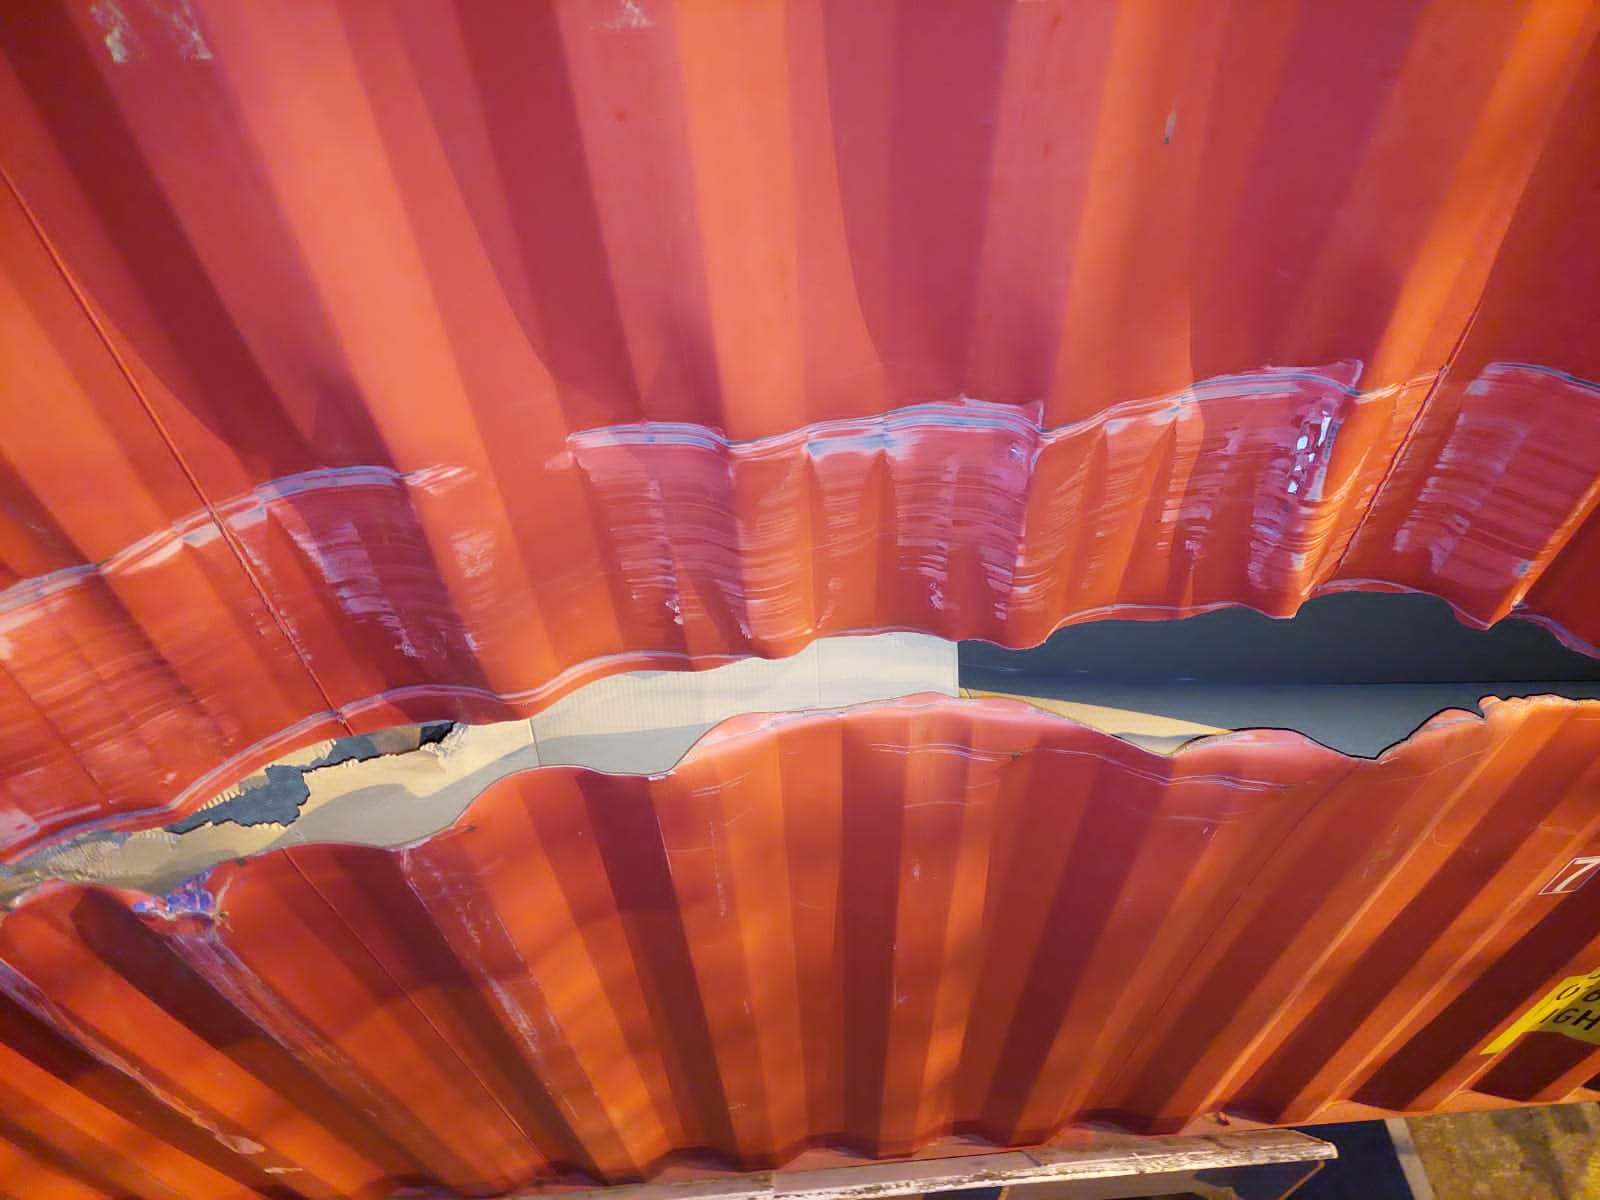left_side: (1, 1, 1600, 1197)
